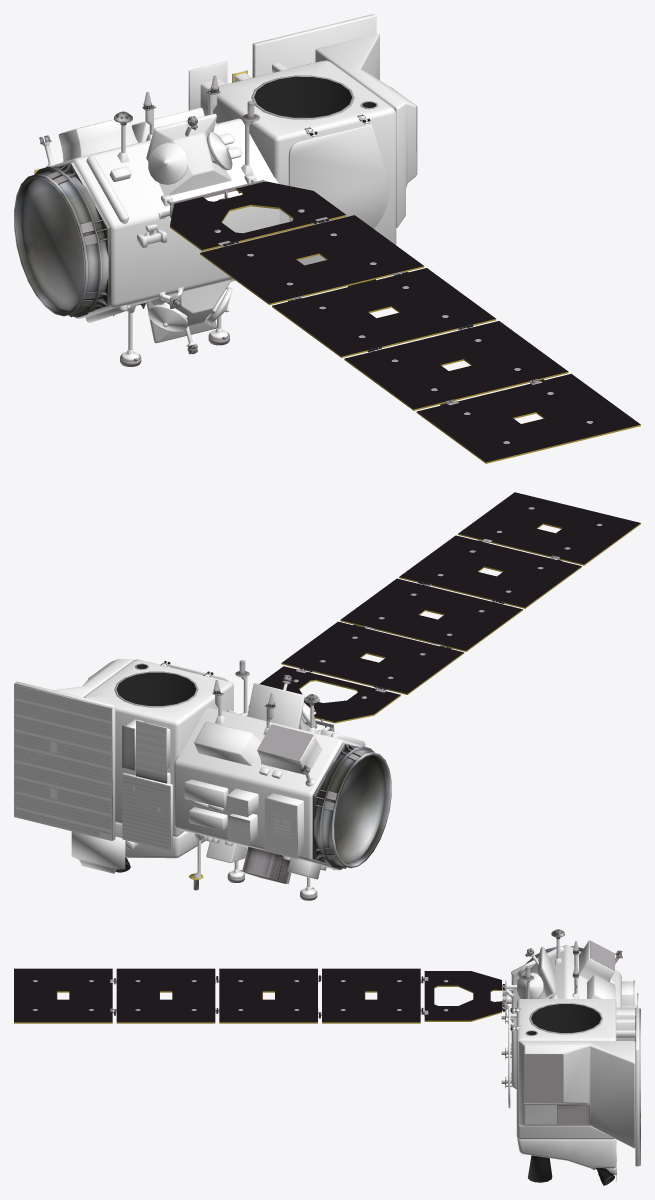
File: ICESat-2.glb
3 renders of one model, top to bottom at view 1: azimuth 30°, elevation 25°; view 2: azimuth 150°, elevation 25°; view 3: azimuth 270°, elevation 25°, orthographic. The views are drawn at different scales.
Visible parts, largest first — view 1: BUS, solar_panels, instruments, Atlas scope, hinges; view 2: instruments, BUS, solar_panels, Atlas scope; view 3: solar_panels, BUS, instruments, Atlas scope, hinges.
Part boxes in pixels (<box>): BUS: <box>36,14,416,360</box>; solar_panels: <box>200,215,640,463</box>; instruments: <box>14,14,417,366</box>; Atlas scope: <box>251,75,377,119</box>; hinges: <box>186,114,544,405</box>; instruments: <box>14,660,400,900</box>; BUS: <box>14,659,365,895</box>; solar_panels: <box>281,492,640,694</box>; Atlas scope: <box>114,663,198,707</box>; solar_panels: <box>14,968,420,1023</box>; BUS: <box>502,939,639,1181</box>; instruments: <box>424,929,640,1185</box>; Atlas scope: <box>525,1003,602,1036</box>; hinges: <box>110,975,520,1034</box>.
Size of the model in its own units: 3.63 by 2.31 by 7.34.
8 materials, 1 textured.
